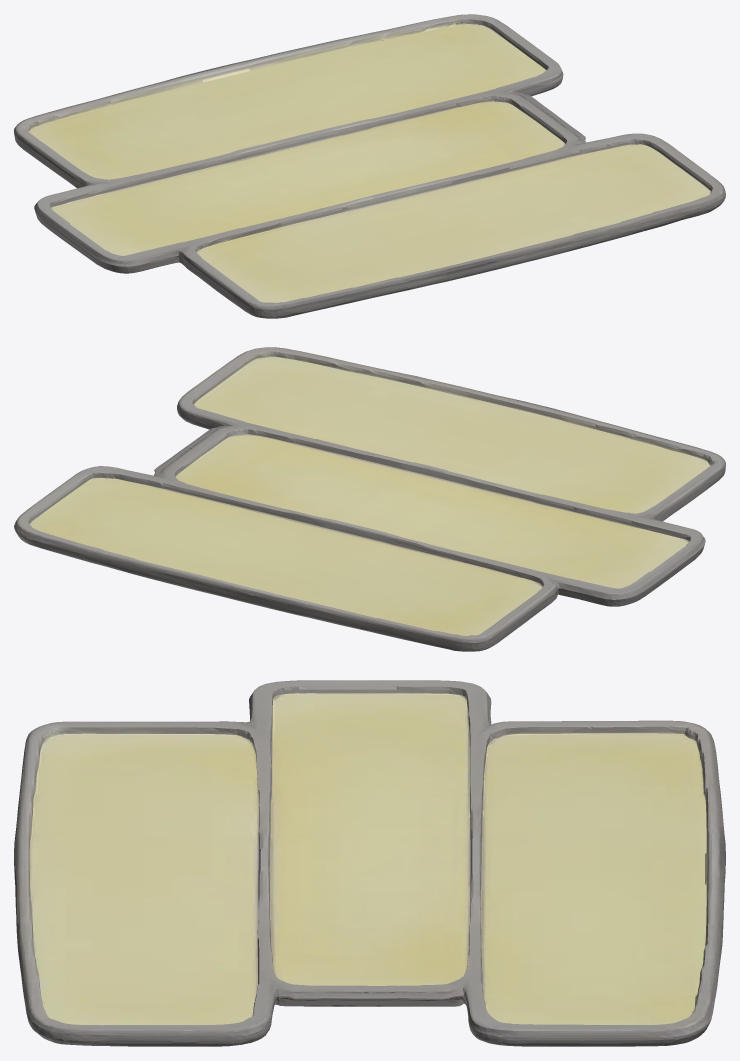
Rendered from ast_5b04b8b73171.glb.
The picture shows the model from 3 angles, top to bottom: view 1: azimuth 30°, elevation 25°; view 2: azimuth 150°, elevation 25°; view 3: azimuth 270°, elevation 25°; orthographic projection. The views are drawn at different scales.
Visible parts, largest first — view 1: geometry_0; view 2: geometry_0; view 3: geometry_0.
Part boxes in pixels (box(x1,y1,x2,y2)): geometry_0: box(14, 14, 725, 318); geometry_0: box(14, 347, 725, 651); geometry_0: box(14, 680, 725, 1046).
Bounding box in the file's own units: 0.996 × 0.0272 × 0.8463.
Materials: 1 (1 with a texture image).
